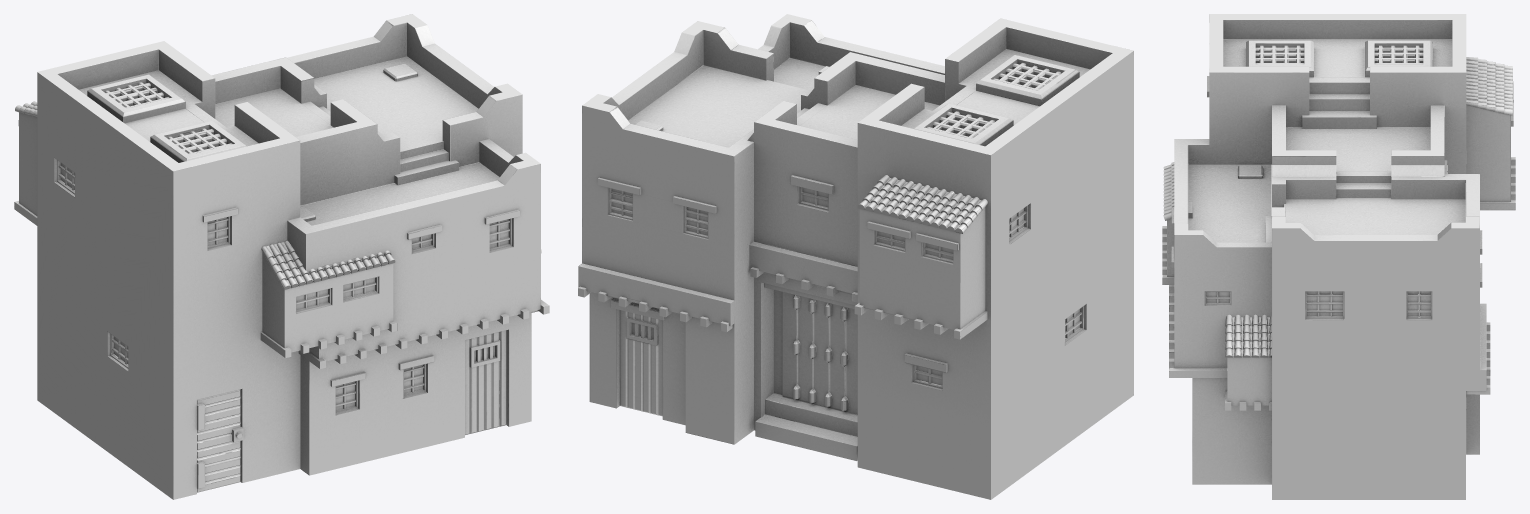
Rendered from medina_1.glb.
3 views of the same model, side by side, from view 1: azimuth 30°, elevation 25°; view 2: azimuth 150°, elevation 25°; view 3: azimuth 270°, elevation 25° (orthographic). The views are drawn at different scales.
Parts seen in each view (by area): view 1: Medina_1c; view 2: Medina_1c; view 3: Medina_1c.
Boxes of the visible parts, x1,y1,x2,y2 form: Medina_1c: [14, 14, 549, 499]; Medina_1c: [578, 14, 1133, 499]; Medina_1c: [1162, 14, 1515, 499].
Bounding box in the file's own units: 39 × 31.99 × 33.04.
Materials: 1 (1 with a texture image).
